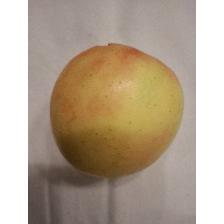Apfel: (48, 39, 186, 181)
